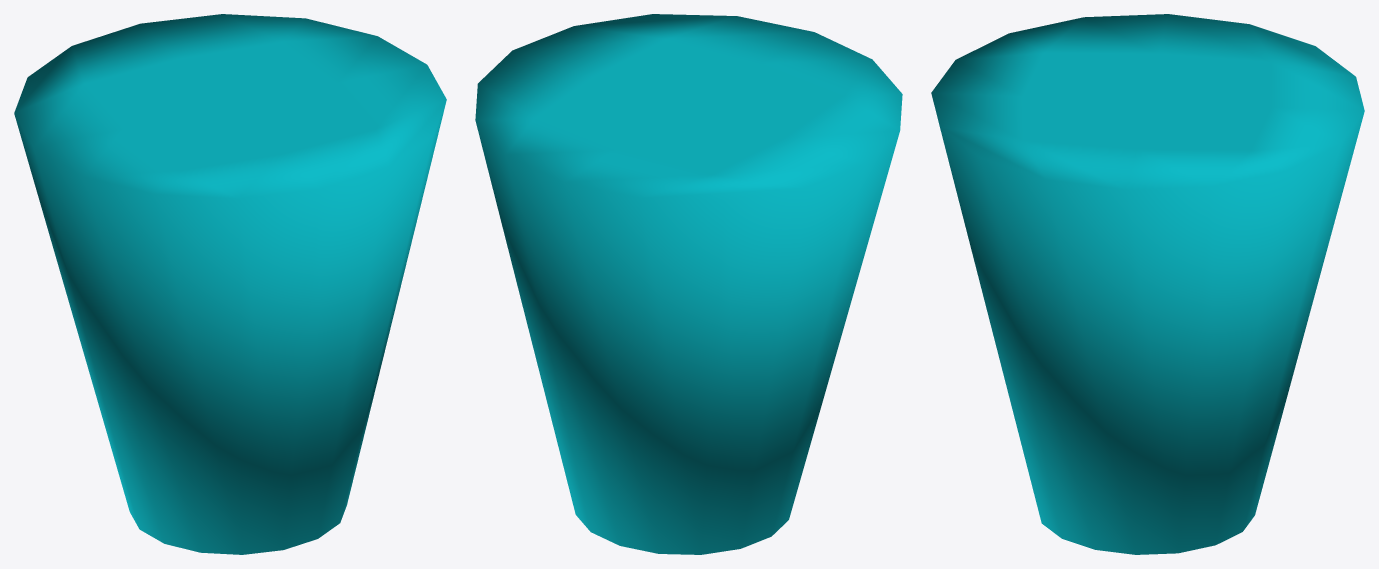
File: waterInCup.glb
3 views of the same model, side by side, from view 1: azimuth 30°, elevation 25°; view 2: azimuth 150°, elevation 25°; view 3: azimuth 270°, elevation 25° (orthographic).
Parts seen in each view (by area): view 1: Water_Inside_Cup; view 2: Water_Inside_Cup; view 3: Water_Inside_Cup.
Boxes of the visible parts, x1,y1,x2,y2 form: Water_Inside_Cup: (14,14,446,554); Water_Inside_Cup: (475,14,902,554); Water_Inside_Cup: (931,14,1364,554).
Size of the model in its own units: 0.0722 by 0.0755 by 0.0722.
Materials: 1 (1 with a texture image).
